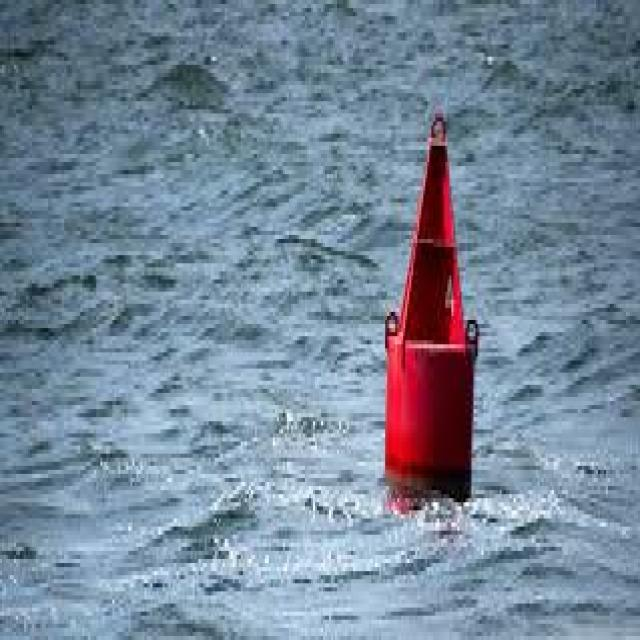marque: (376, 85, 479, 506)
